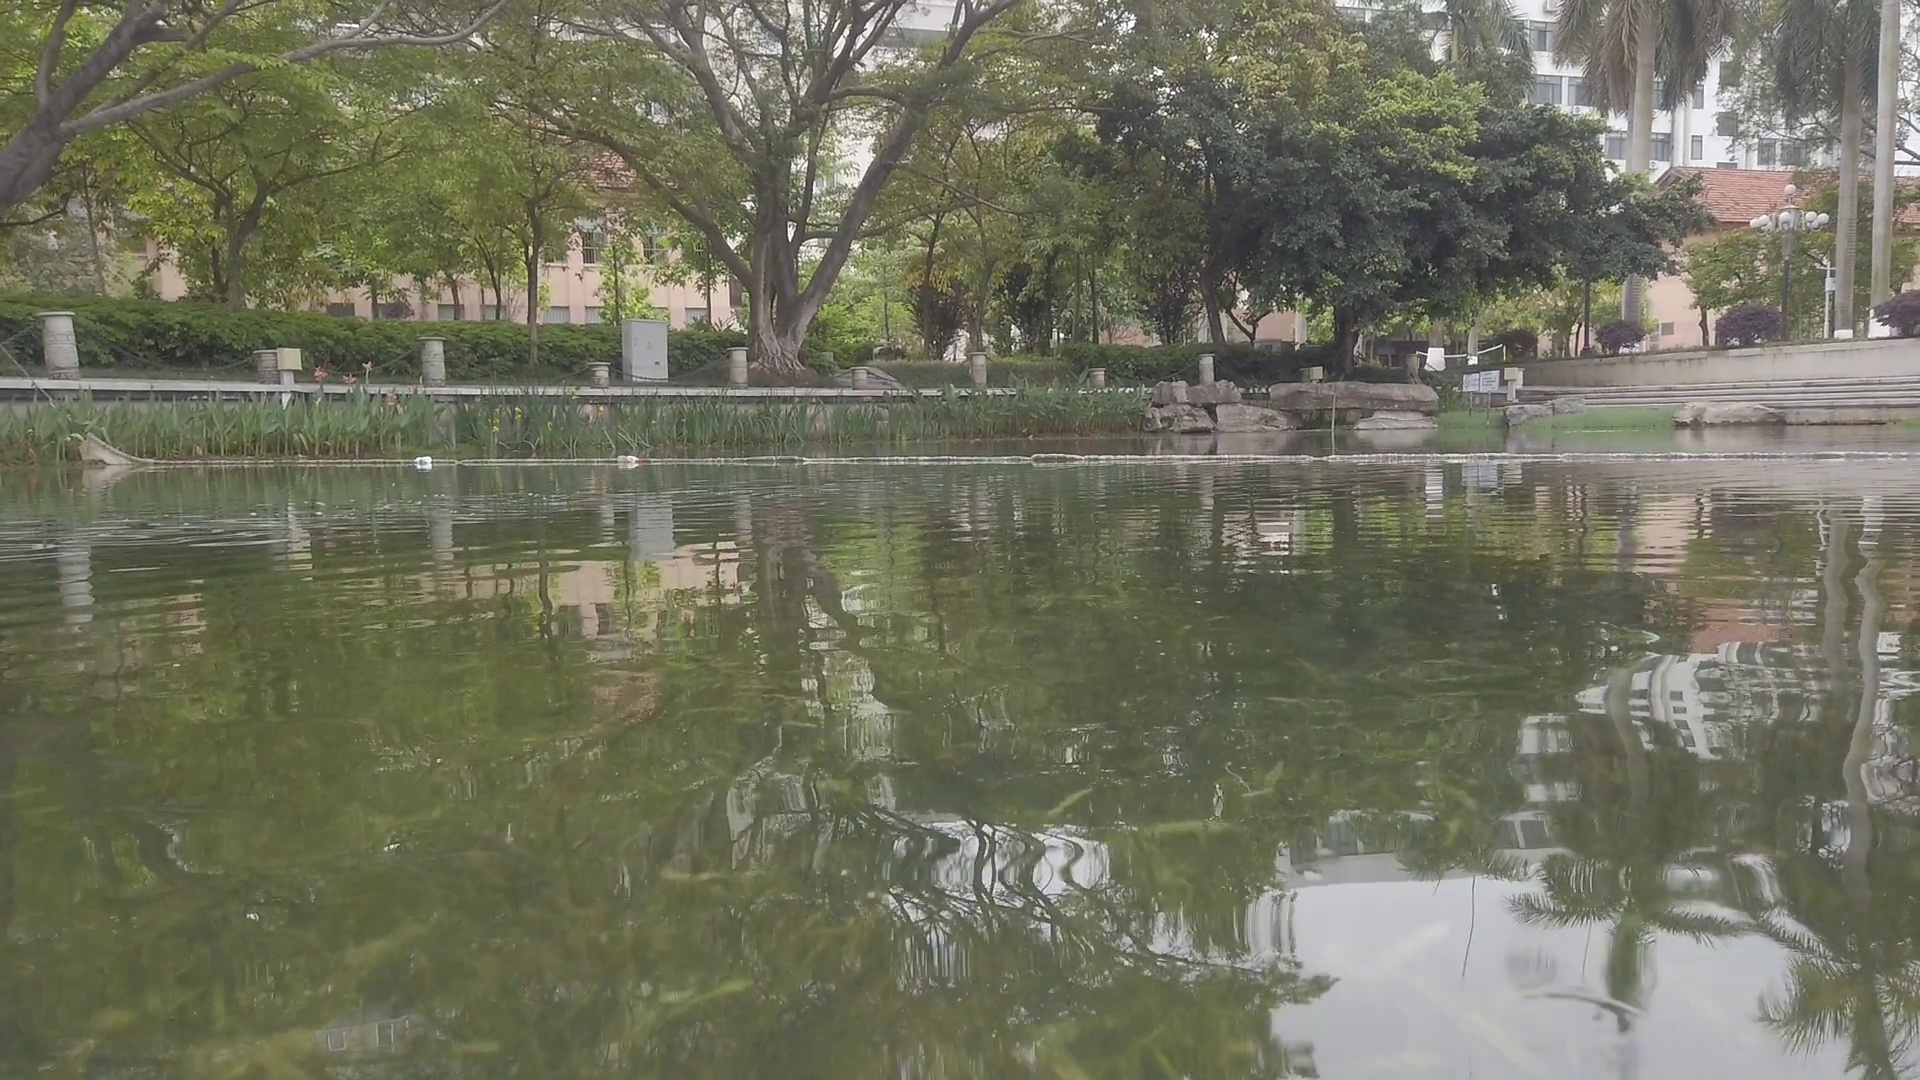bottle: (616, 454, 640, 464), (415, 455, 433, 463)
